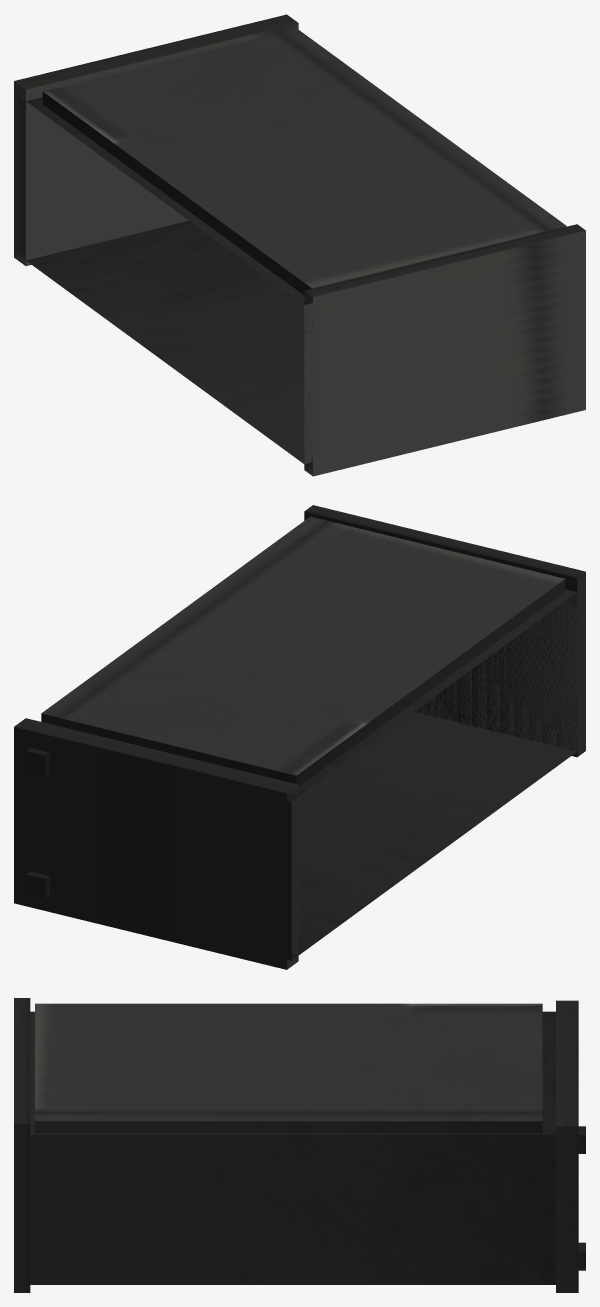
File: pz_wardrobe_storage_01_dark_fancy_1_0.obj
3 renders of one model, top to bottom at view 1: azimuth 30°, elevation 25°; view 2: azimuth 150°, elevation 25°; view 3: azimuth 270°, elevation 25°, orthographic. The views are drawn at different scales.
Bounding box in the file's own units: 0.995 × 0.625 × 1.91.
1 material, 1 textured.
